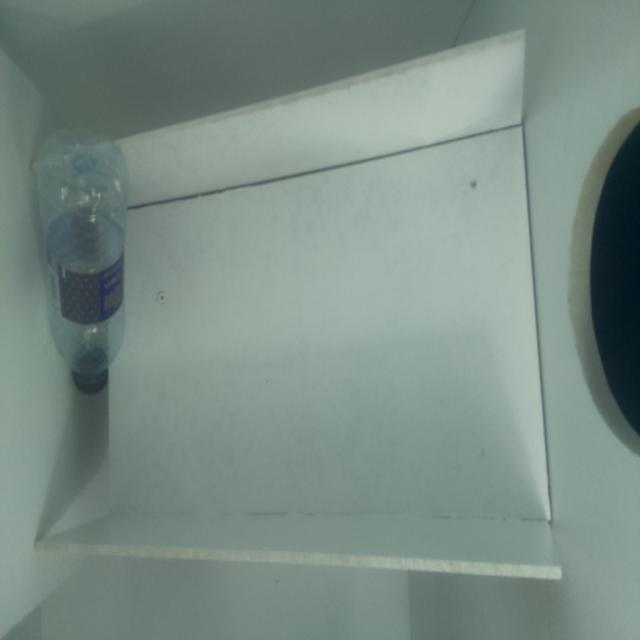Anorganik: (26, 112, 121, 396)
